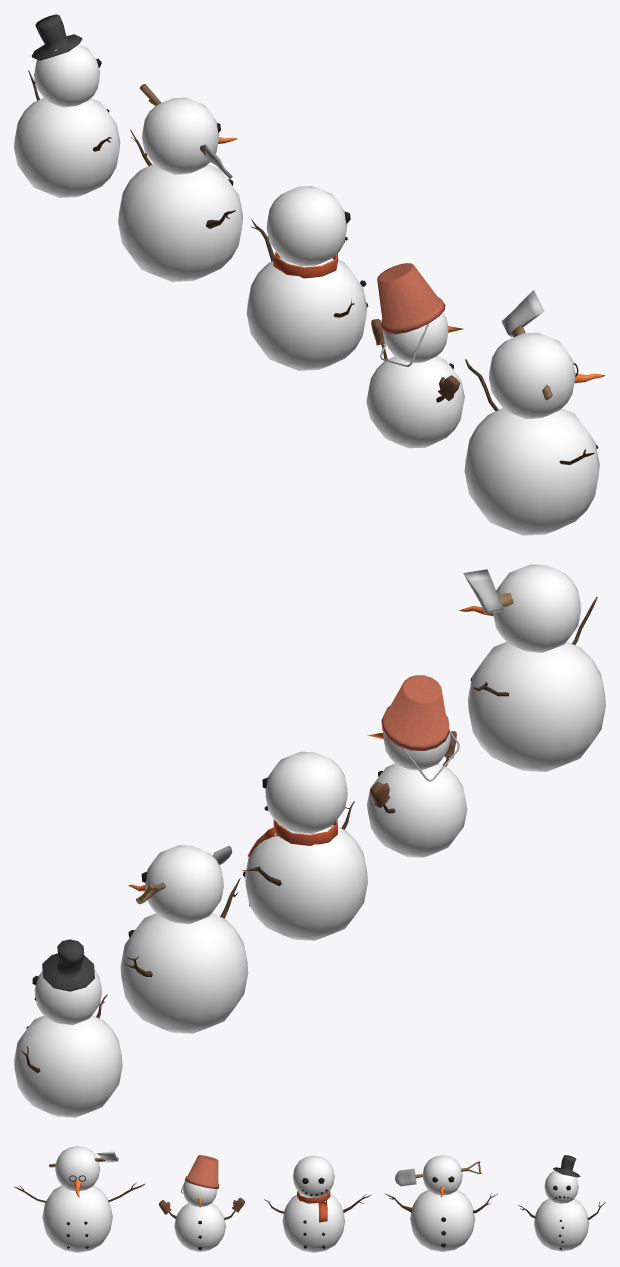
The model's file is snowman.fbx.
The picture shows the model from 3 angles, top to bottom: view 1: azimuth 30°, elevation 25°; view 2: azimuth 150°, elevation 25°; view 3: azimuth 270°, elevation 25°; orthographic projection. The views are drawn at different scales.
Parts seen in each view (by area): view 1: sm_01_body, sm_04_body, sm_03_body, sm_05_body, sm_02_body, sm_01_head, sm_03_head, sm_04_head, sm_02_bukket, sm_05_head, sm_02_head, sm_05_hat (+2 smaller); view 2: sm_01_body, sm_04_body, sm_03_body, sm_05_body, sm_02_body, sm_01_head, sm_03_head, sm_04_head, sm_02_bukket, sm_05_head, sm_05_hat, sm_02_head (+2 smaller); view 3: sm_01_body, sm_04_body, sm_03_body, sm_05_body, sm_02_body, sm_01_head, sm_03_head, sm_04_head, sm_02_bukket, sm_05_head, sm_02_head, sm_04_shovel (+6 smaller).
Boxes of the visible parts, left/top/right/bottom form: sm_01_body: left=464, top=408, right=599, bottom=535; sm_04_body: left=118, top=164, right=242, bottom=281; sm_03_body: left=246, top=258, right=366, bottom=370; sm_05_body: left=14, top=98, right=120, bottom=197; sm_02_body: left=366, top=356, right=464, bottom=448; sm_01_head: left=489, top=332, right=575, bottom=418; sm_03_head: left=266, top=186, right=347, bottom=266; sm_04_head: left=142, top=97, right=219, bottom=174; sm_02_bukket: left=377, top=263, right=445, bottom=366; sm_05_head: left=34, top=44, right=99, bottom=107; sm_02_head: left=382, top=312, right=448, bottom=363; sm_05_hat: left=32, top=14, right=82, bottom=60; sm_01_body: left=467, top=641, right=605, bottom=771; sm_04_body: left=120, top=913, right=248, bottom=1033; sm_03_body: left=245, top=825, right=367, bottom=940; sm_05_body: left=14, top=1015, right=122, bottom=1117; sm_02_body: left=367, top=763, right=467, bottom=857; sm_01_head: left=493, top=564, right=580, bottom=652; sm_03_head: left=265, top=751, right=347, bottom=833; sm_04_head: left=145, top=845, right=223, bottom=923; sm_02_bukket: left=381, top=675, right=459, bottom=781; sm_05_head: left=34, top=969, right=101, bottom=1025; sm_05_hat: left=42, top=939, right=94, bottom=991; sm_02_head: left=383, top=729, right=450, bottom=770; sm_01_body: left=42, top=1185, right=112, bottom=1252; sm_04_body: left=410, top=1190, right=475, bottom=1251; sm_03_body: left=282, top=1193, right=344, bottom=1252; sm_05_body: left=534, top=1198, right=589, bottom=1251; sm_02_body: left=174, top=1203, right=225, bottom=1251; sm_01_head: left=55, top=1146, right=99, bottom=1191; sm_03_head: left=293, top=1155, right=334, bottom=1197; sm_04_head: left=423, top=1155, right=462, bottom=1195; sm_02_bukket: left=181, top=1155, right=219, bottom=1193; sm_05_head: left=544, top=1171, right=578, bottom=1203; sm_02_head: left=183, top=1181, right=217, bottom=1207; sm_04_shovel: left=395, top=1161, right=481, bottom=1186.
Size of the model in its own units: 277 by 406 by 2024.
